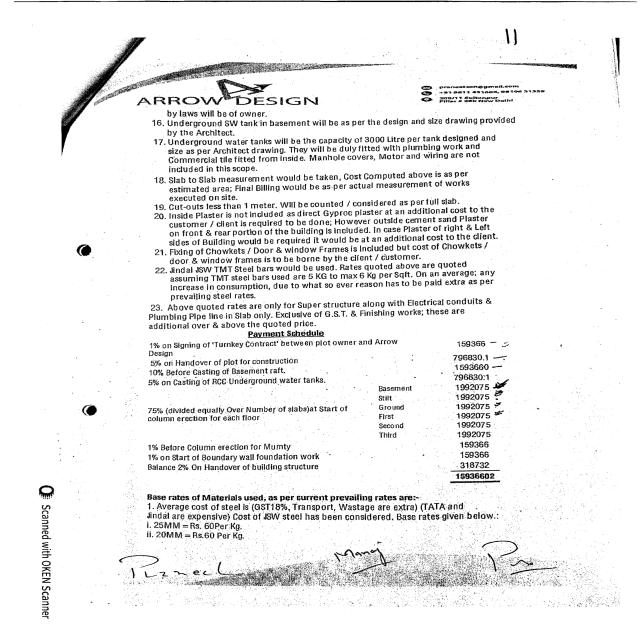page-number: (395, 4, 600, 56)
